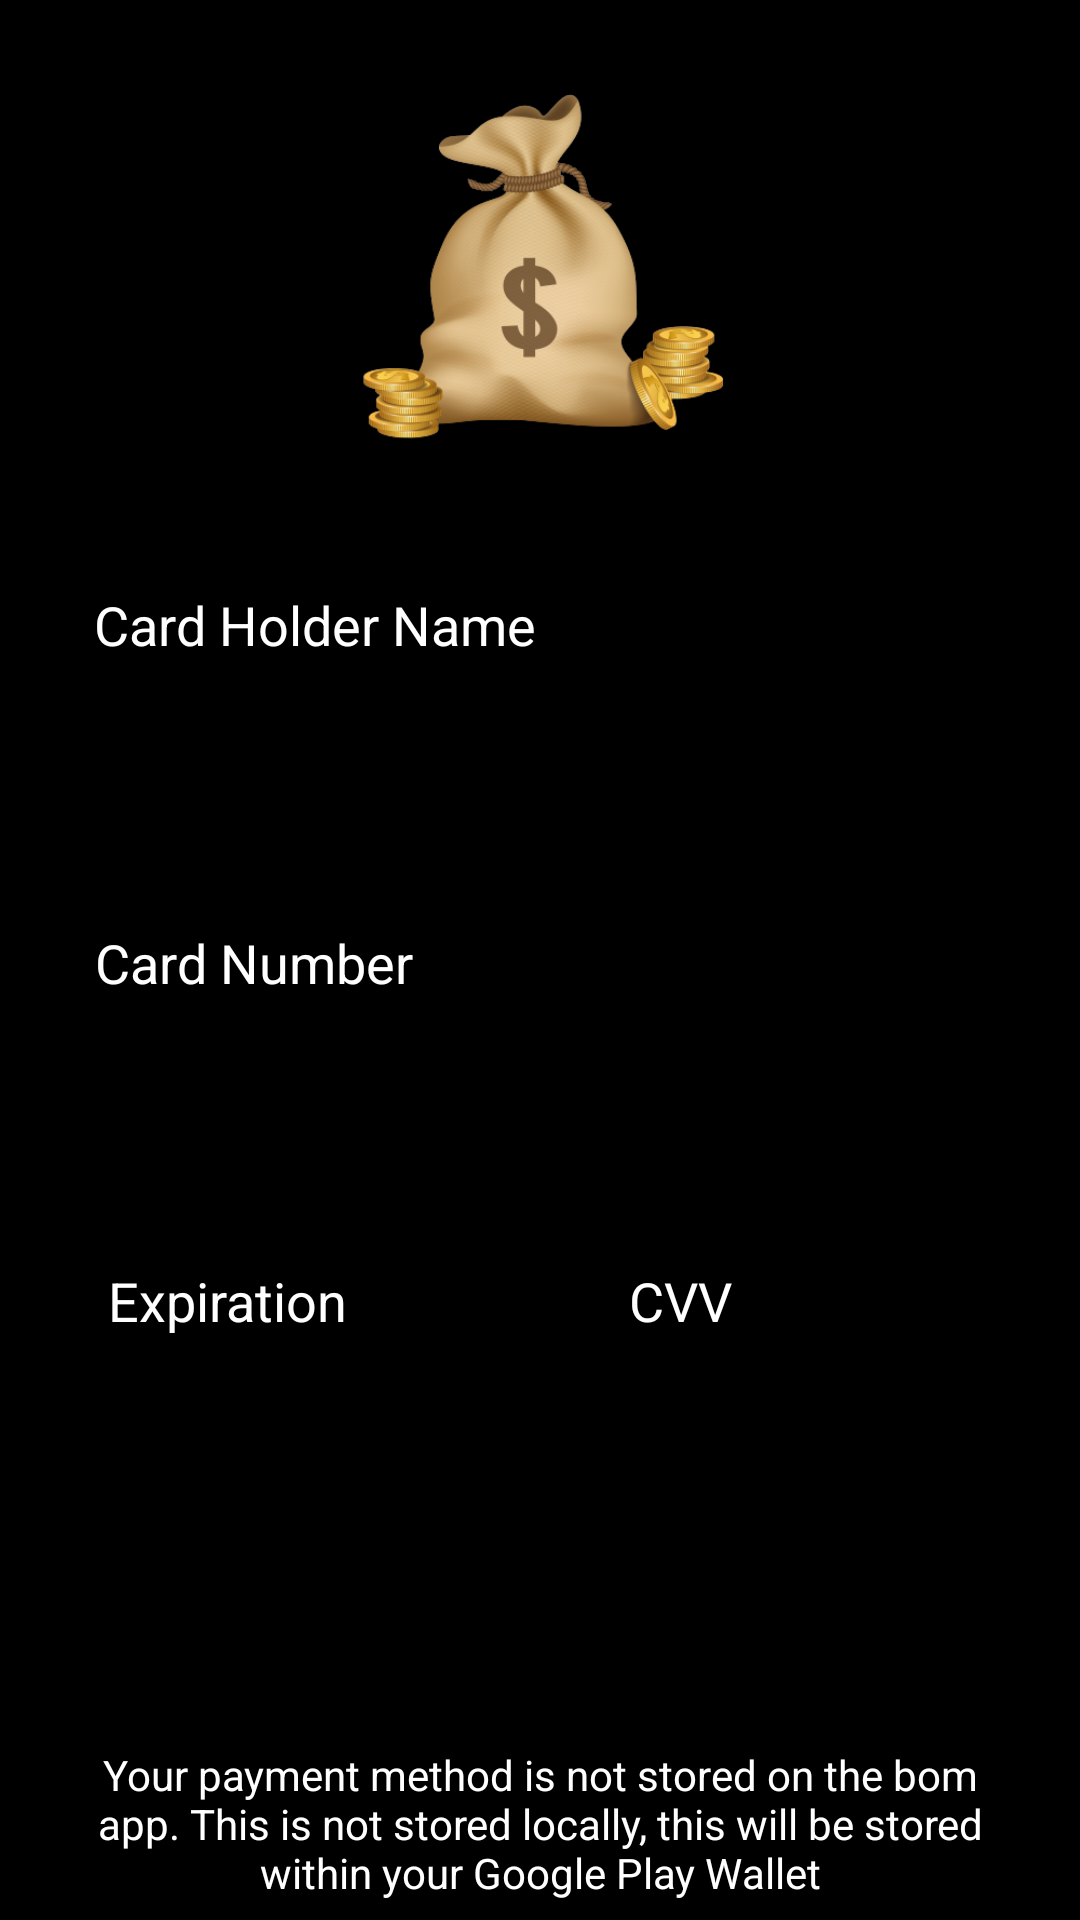

Screen size 1080 × 1920. Icon name, then its center in pixels as [x,y]:
money bag: [543,267]
